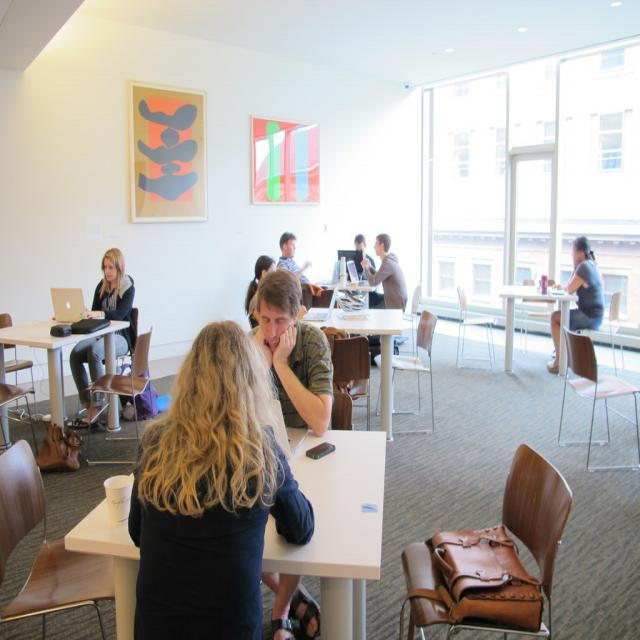chair: (400, 443, 574, 639), (557, 330, 640, 471), (0, 439, 47, 619), (88, 326, 154, 433), (387, 310, 439, 439), (0, 314, 39, 440), (331, 334, 371, 432), (455, 285, 497, 371), (330, 385, 352, 431)
desk: (305, 291, 426, 443)
laptop: (49, 287, 107, 328)
person: (127, 321, 314, 639), (250, 269, 336, 437), (68, 248, 136, 424), (545, 237, 605, 375), (357, 232, 408, 312), (276, 231, 316, 297), (244, 254, 275, 324)
